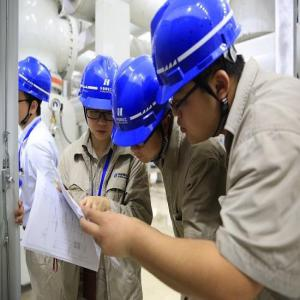blue: (150, 2, 245, 144), (112, 55, 170, 161), (77, 50, 120, 139), (13, 55, 53, 124)
